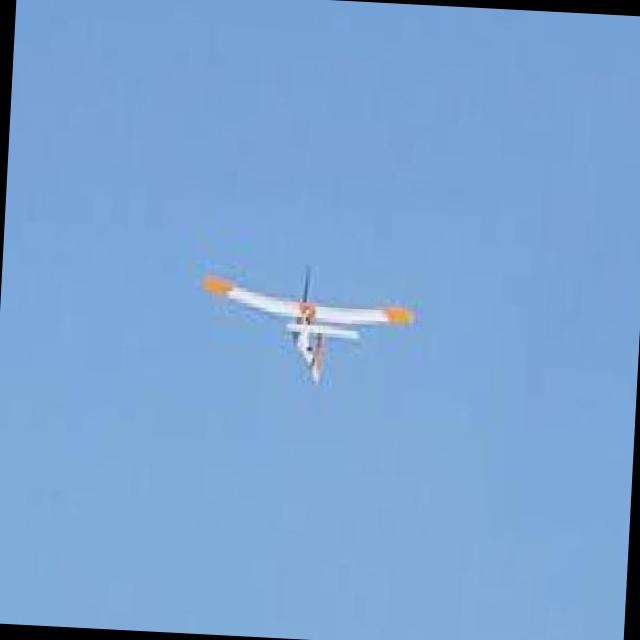UAV: (198, 253, 462, 427)
